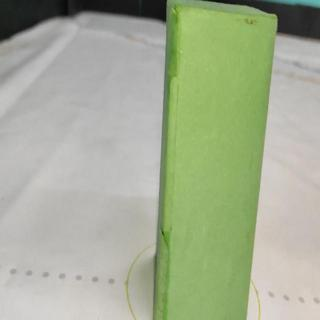greenbox: (153, 0, 278, 320)
